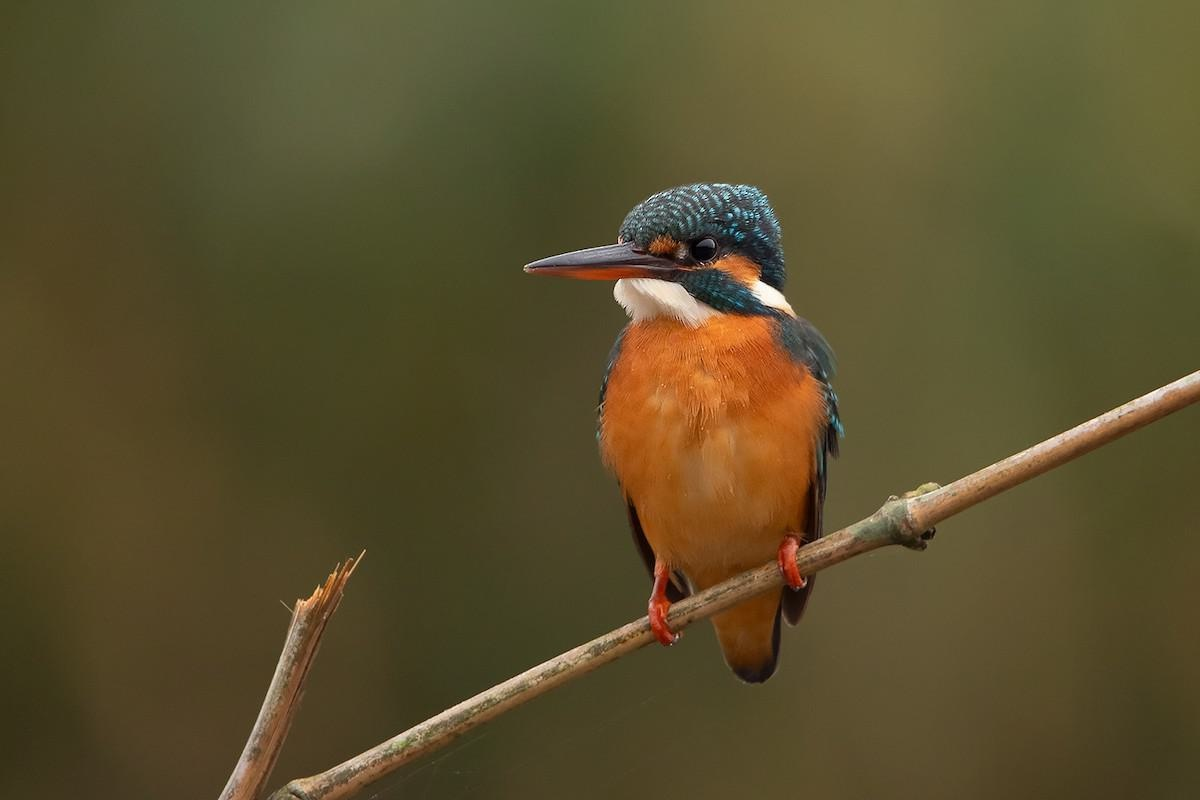kingfisher: (501, 168, 886, 659)
